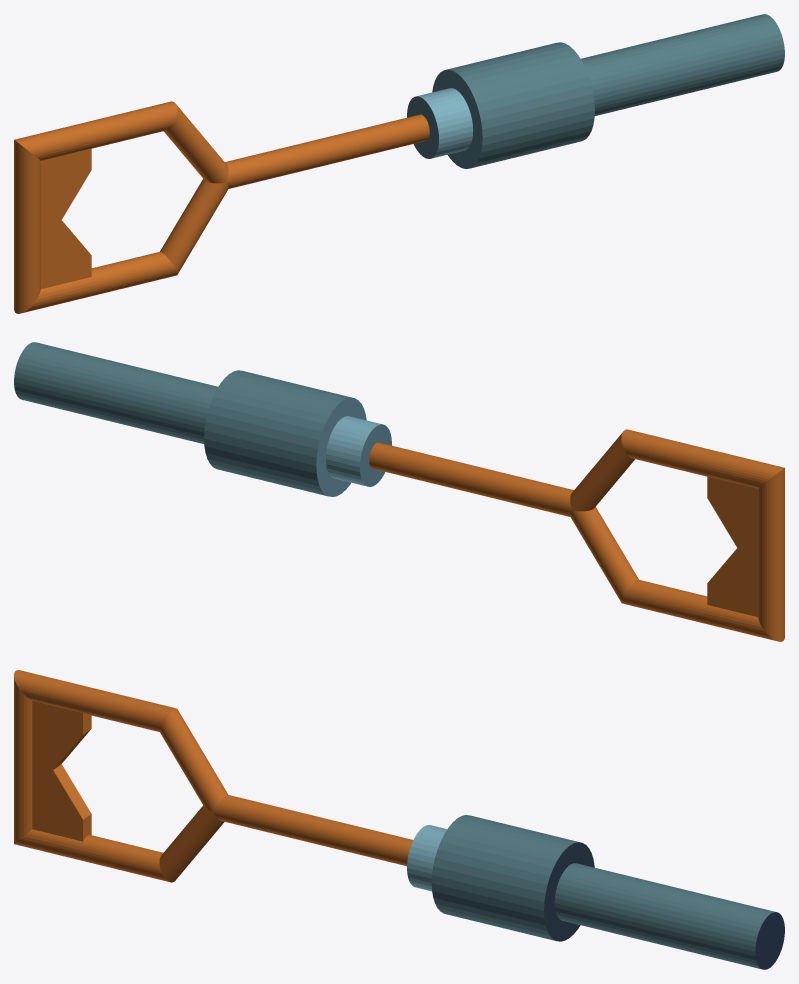
The model's file is HotStab.dae.
3 views of the same model, one above another, from view 1: azimuth 30°, elevation 25°; view 2: azimuth 150°, elevation 25°; view 3: azimuth 330°, elevation 25° (orthographic).
Parts seen in each view (by area): view 1: ShapeIndexedFaceSet_007, ShapeIndexedFaceSet_003, ShapeIndexedFaceSet_005, ShapeIndexedFaceSet_001, ShapeIndexedFaceSet_002, ShapeIndexedFaceSet; view 2: ShapeIndexedFaceSet_007, ShapeIndexedFaceSet_003, ShapeIndexedFaceSet_005, ShapeIndexedFaceSet_001, ShapeIndexedFaceSet_002, ShapeIndexedFaceSet; view 3: ShapeIndexedFaceSet_007, ShapeIndexedFaceSet_005, ShapeIndexedFaceSet_003, ShapeIndexedFaceSet_004, ShapeIndexedFaceSet_001, ShapeIndexedFaceSet_006.
Boxes of the visible parts, box(x1,y1,x2,y2) form: ShapeIndexedFaceSet_007: box(14, 101, 429, 313); ShapeIndexedFaceSet_003: box(446, 42, 594, 168); ShapeIndexedFaceSet_005: box(581, 14, 784, 115); ShapeIndexedFaceSet_001: box(416, 88, 473, 158); ShapeIndexedFaceSet_002: box(432, 69, 482, 168); ShapeIndexedFaceSet: box(407, 96, 438, 158); ShapeIndexedFaceSet_007: box(369, 429, 784, 641); ShapeIndexedFaceSet_003: box(204, 370, 352, 496); ShapeIndexedFaceSet_005: box(14, 342, 217, 443); ShapeIndexedFaceSet_001: box(325, 416, 382, 486); ShapeIndexedFaceSet_002: box(316, 397, 366, 496); ShapeIndexedFaceSet: box(360, 424, 391, 486); ShapeIndexedFaceSet_007: box(14, 670, 413, 882); ShapeIndexedFaceSet_005: box(554, 863, 776, 969); ShapeIndexedFaceSet_003: box(431, 815, 580, 940); ShapeIndexedFaceSet_004: box(544, 842, 594, 941); ShapeIndexedFaceSet_001: box(407, 825, 446, 891); ShapeIndexedFaceSet_006: box(755, 912, 784, 969).
Size of the model in its own units: 0.515 by 0.0602 by 0.1122.
